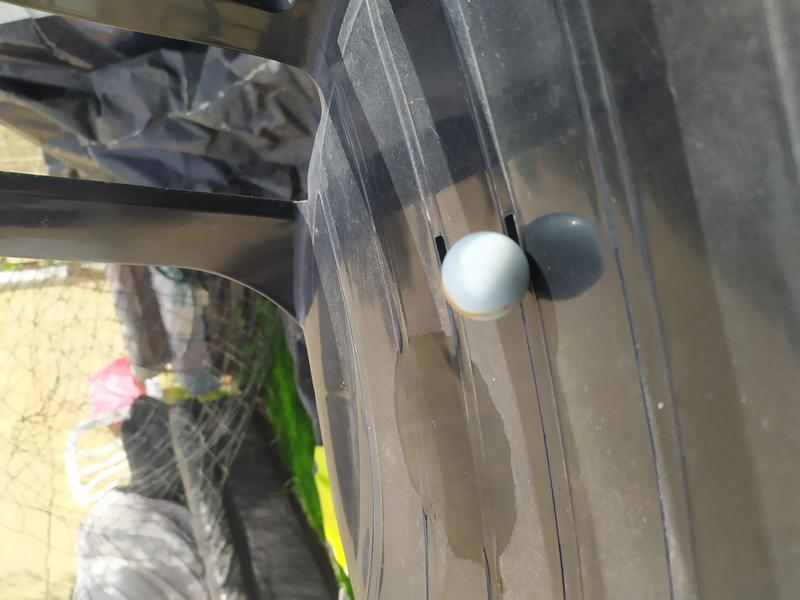Warning: (438, 228, 533, 324)
